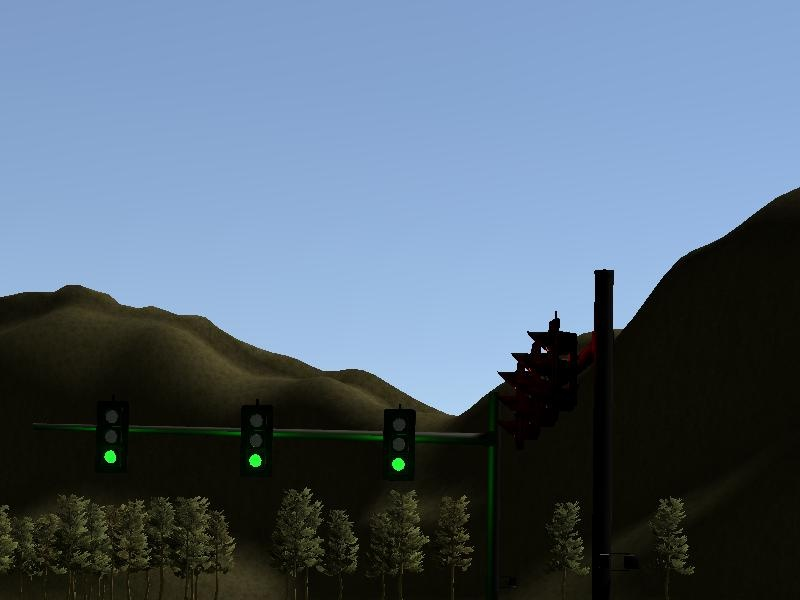Green: (239, 403, 274, 479), (95, 400, 129, 475), (383, 407, 417, 482)
